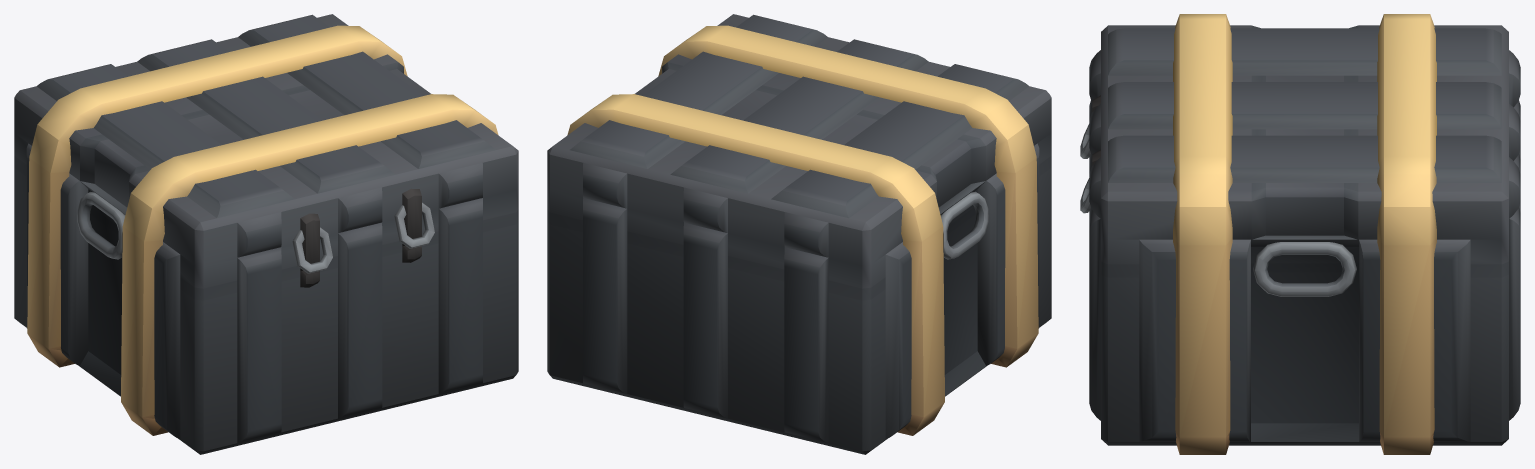
Rendered from prop_crate_large.glb.
The picture shows the model from 3 angles, left to right: view 1: azimuth 30°, elevation 25°; view 2: azimuth 150°, elevation 25°; view 3: azimuth 270°, elevation 25°; orthographic projection. The views are drawn at different scales.
Parts seen in each view (by area): view 1: refined; view 2: refined; view 3: refined.
Part boxes in pixels (x1,y1,x2,y2): refined: (14, 14, 518, 454); refined: (547, 14, 1051, 454); refined: (1080, 14, 1520, 454).
Size of the model in its own units: 1.57 by 1.05 by 1.51.
